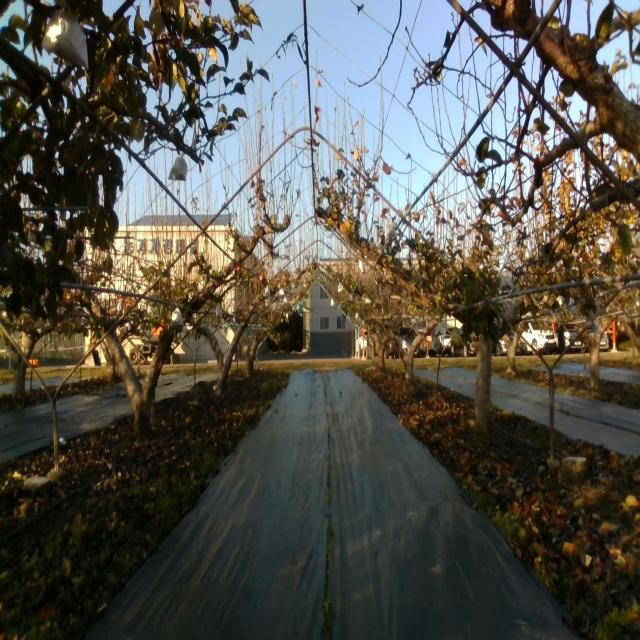pearbags: (42, 9, 90, 72), (168, 157, 188, 181), (384, 217, 397, 243), (171, 308, 184, 327)
